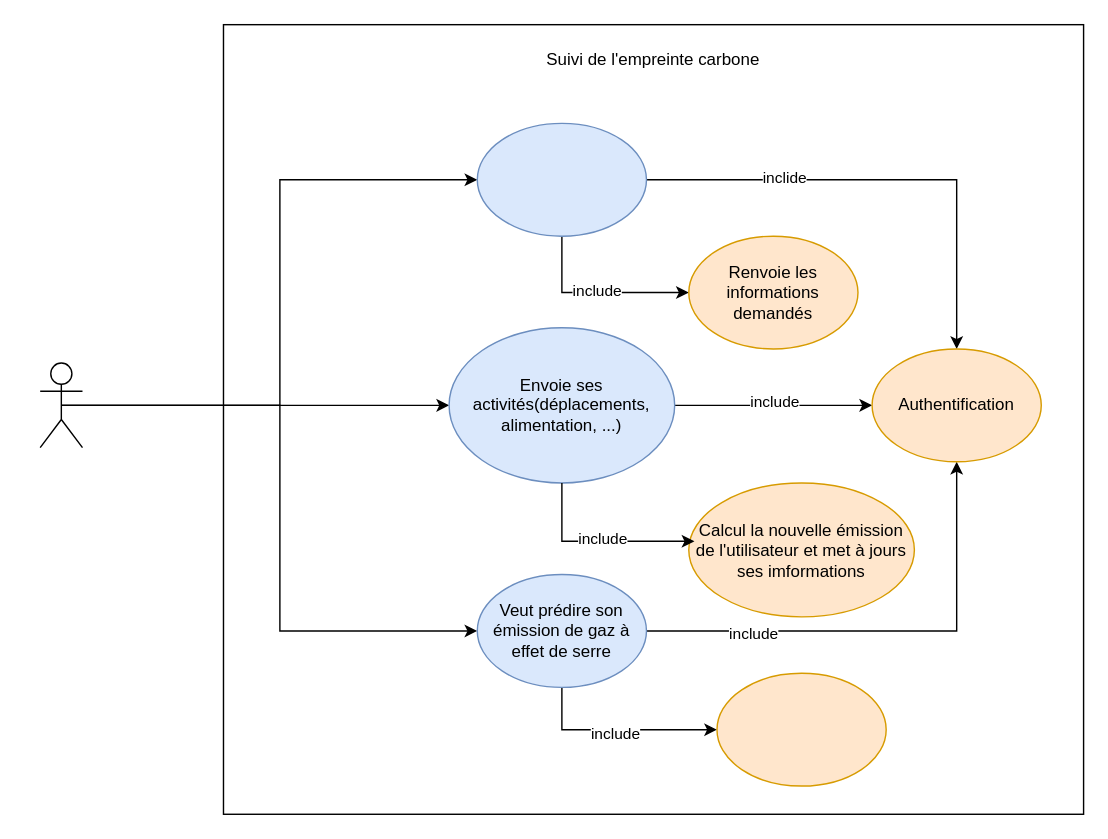
Some shapes in this 1108 by 839 pixel diagram are drawn without their labels. Each missing label, with the box of its shape:
Calcul la prédiction et renvoie la réponse: (716, 672, 886, 786)
Demande son émission de gaz à effet de serre: (476, 122, 646, 236)
Utilisateur: (39, 362, 82, 448)
